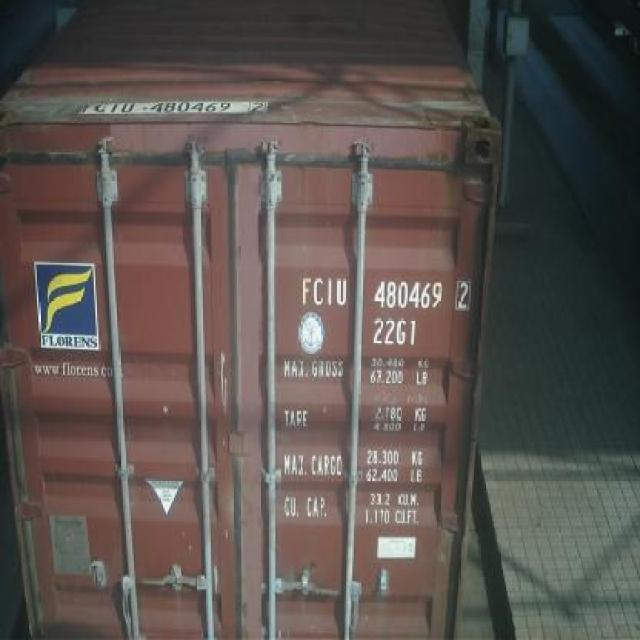ISO: (372, 321, 419, 346)
container_number: (301, 276, 468, 308)
